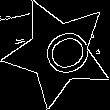O_SW: (25, 22, 91, 83)
